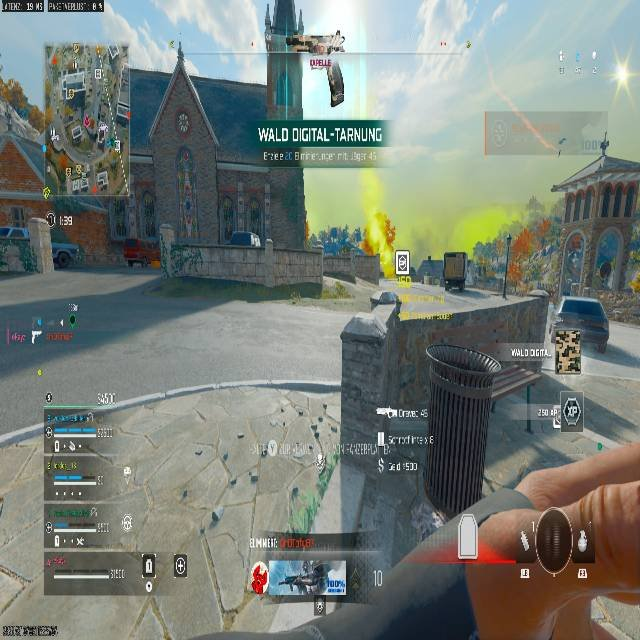player: (554, 330, 584, 375), (556, 136, 566, 157)
